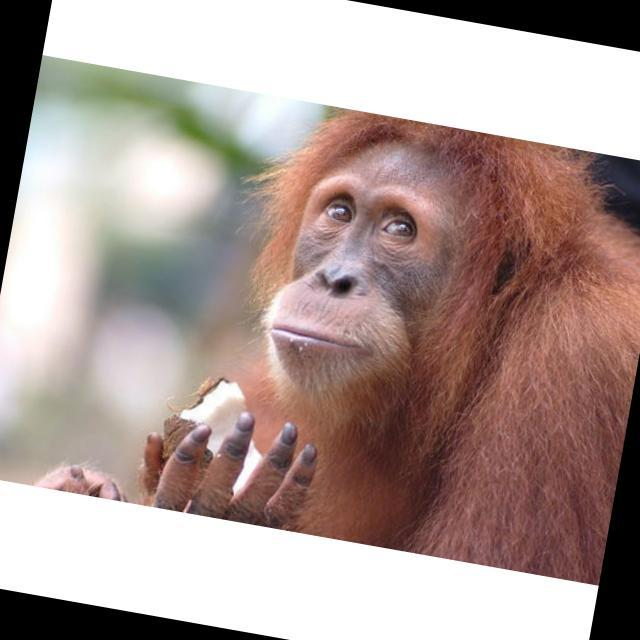Orangutan: (157, 121, 640, 513)
